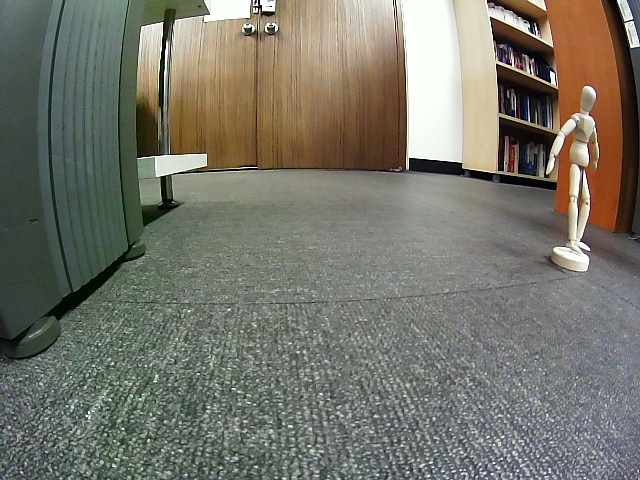person: (545, 85, 599, 255)
